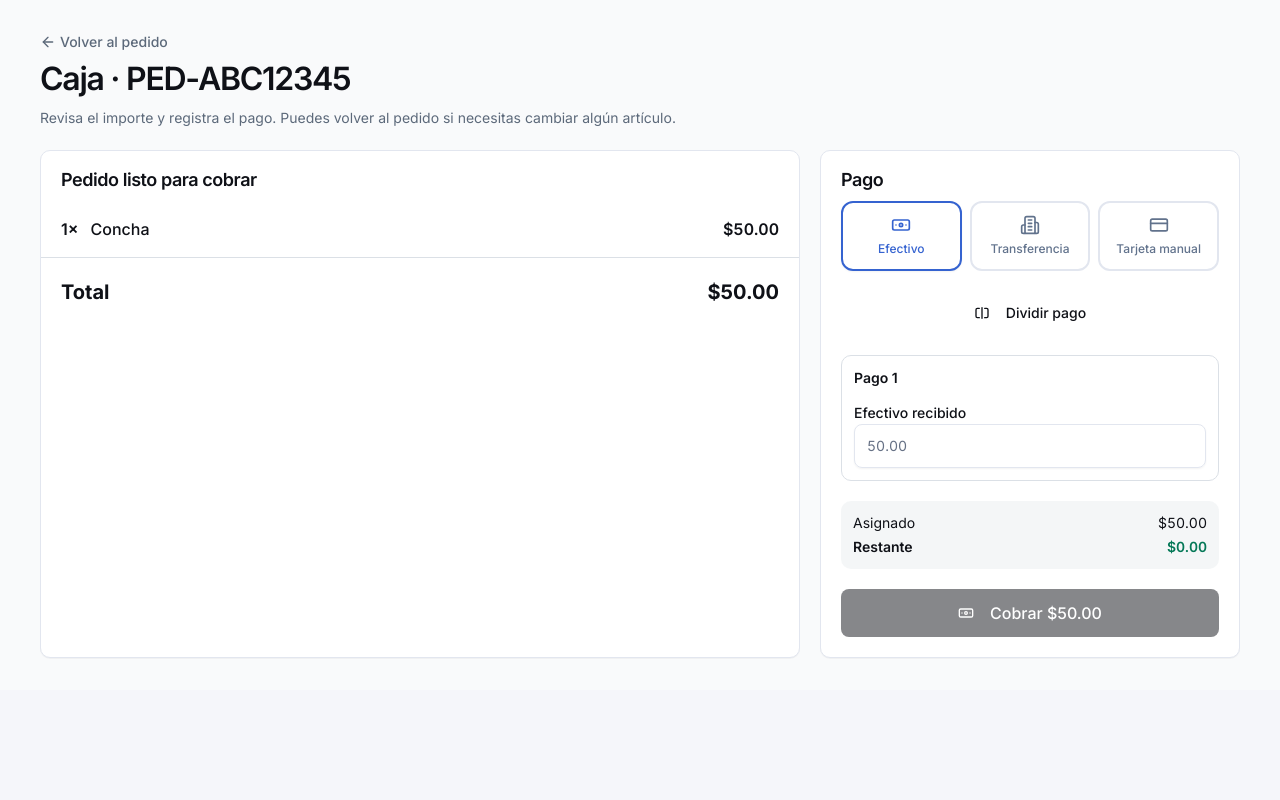
Test case: CustomerOrderCheckoutRegister › identifies manual card consistently in single and split payments without charging on selection
Step 1. Click the radio button labelled "Tarjeta manual" → (1159, 236), box [1098,201,1219,271]
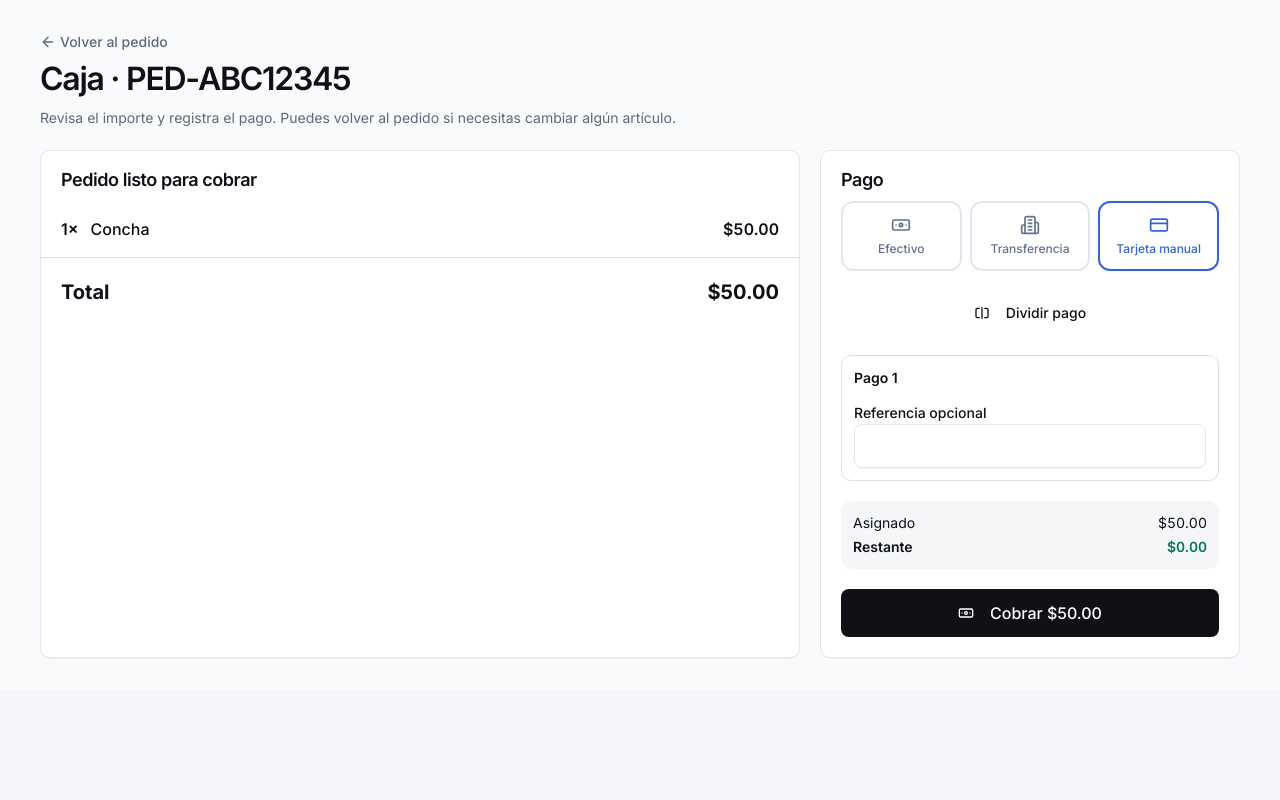
Result: the radio button labelled "Tarjeta manual" is checked at [1098,201,1219,271]
Step 2. Click the button "Dividir pago" → (1030, 313), box [841,291,1219,335]
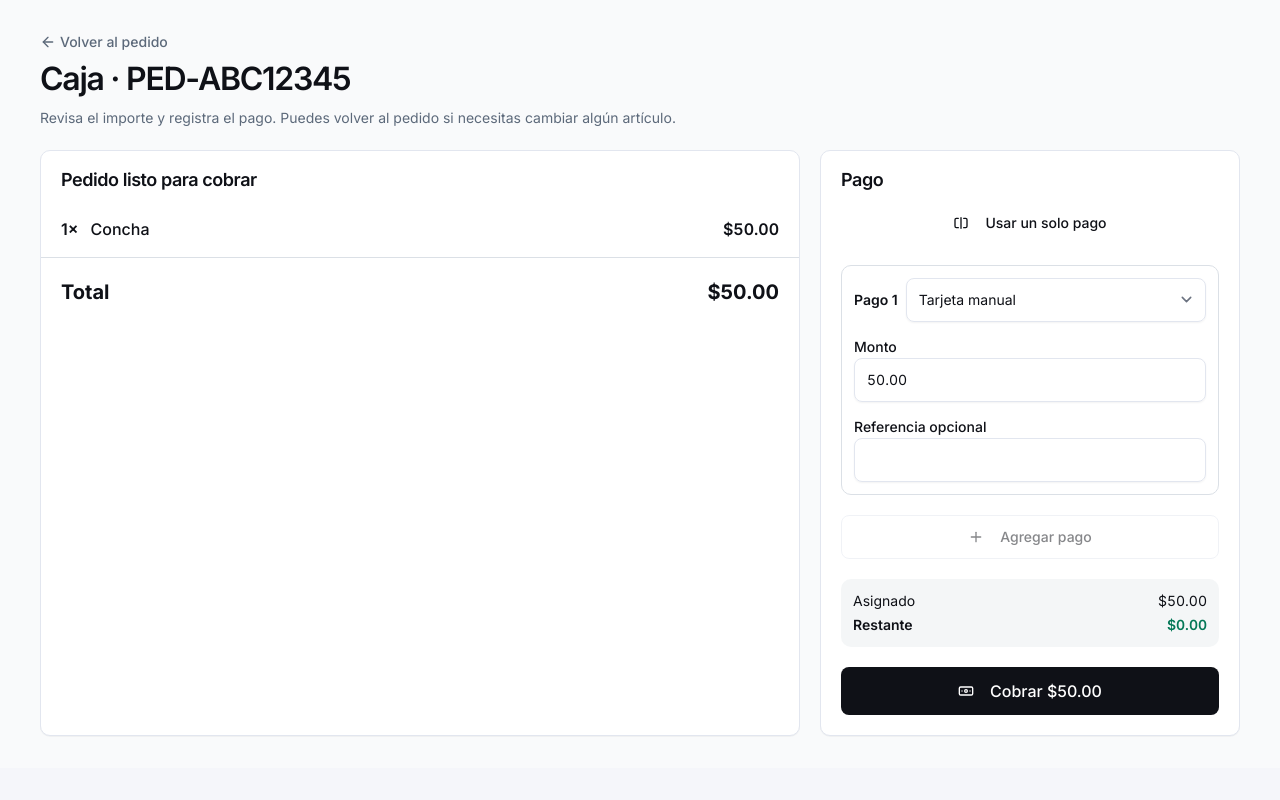
Result: the dropdown named "Método del pago 1" shows "Tarjeta manual" at [906,278,1206,322]
